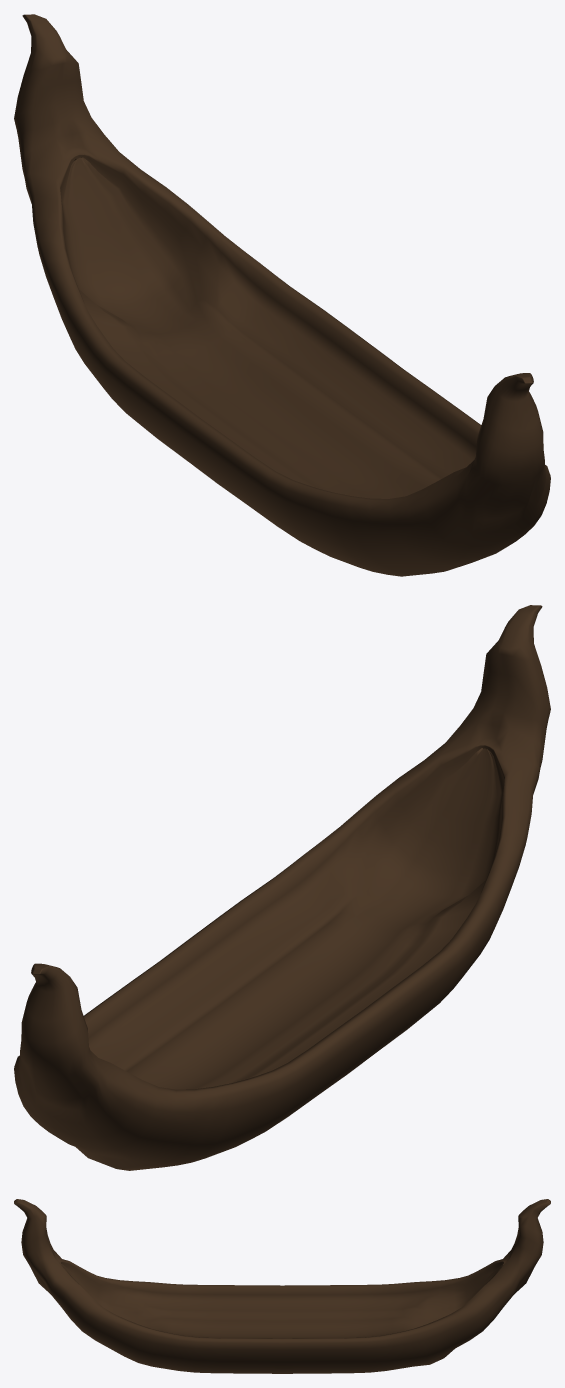
Rendered from canoa.fbx.
3 views of the same model, one above another, from view 1: azimuth 30°, elevation 25°; view 2: azimuth 150°, elevation 25°; view 3: azimuth 270°, elevation 25° (orthographic). The views are drawn at different scales.
Visible parts, largest first — view 1: pasted__pCylinder9; view 2: pasted__pCylinder9; view 3: pasted__pCylinder9.
Part boxes in pixels (<box>): pasted__pCylinder9: <box>14,14,550,576</box>; pasted__pCylinder9: <box>14,605,550,1170</box>; pasted__pCylinder9: <box>14,1199,550,1373</box>.
Size of the model in its own units: 3.94 by 5.2 by 15.65.
